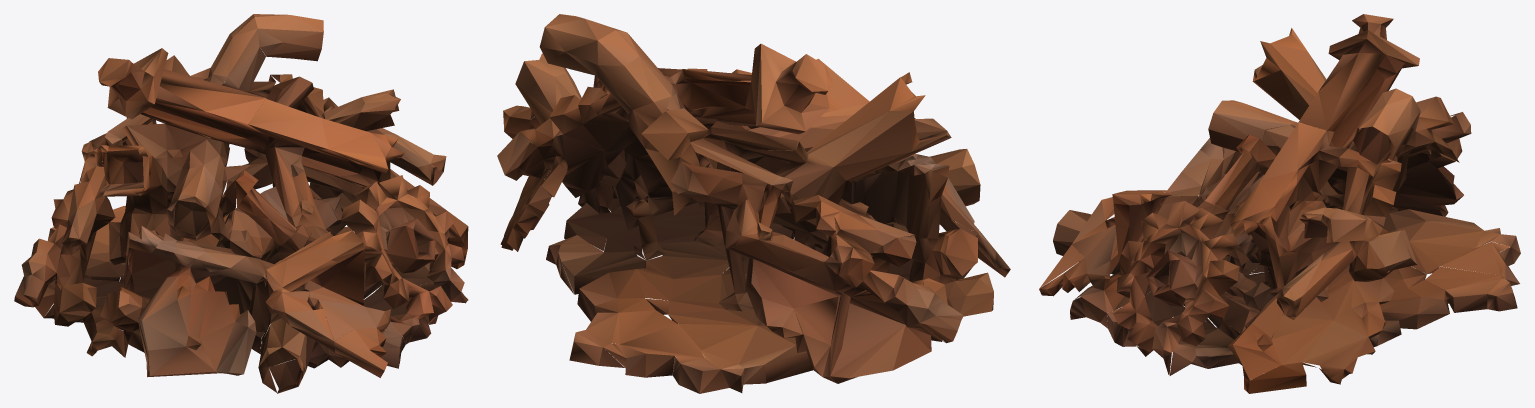
Rendered from building-magnetCrane-scrapLarge.glb.
3 views of the same model, side by side, from view 1: azimuth 30°, elevation 25°; view 2: azimuth 150°, elevation 25°; view 3: azimuth 270°, elevation 25° (orthographic). The views are drawn at different scales.
Parts seen in each view (by area): view 1: 0_magnetCrane-scrapLarge; view 2: 0_magnetCrane-scrapLarge; view 3: 0_magnetCrane-scrapLarge.
Part boxes in pixels (bbox=[...]): 0_magnetCrane-scrapLarge: bbox=[14, 14, 468, 393]; 0_magnetCrane-scrapLarge: bbox=[497, 14, 1010, 393]; 0_magnetCrane-scrapLarge: bbox=[1039, 14, 1520, 393].
Size of the model in its own units: 1.99 by 1.13 by 2.
